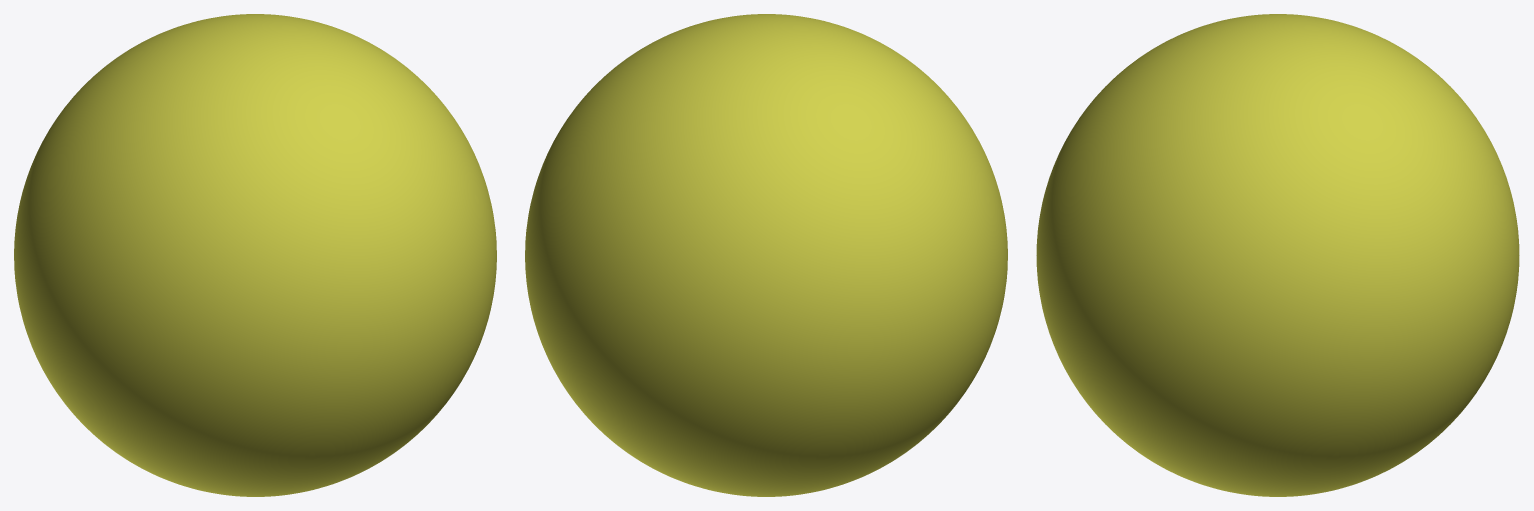
File: planet-hi.fbx
3 views of the same model, side by side, from view 1: azimuth 30°, elevation 25°; view 2: azimuth 150°, elevation 25°; view 3: azimuth 270°, elevation 25° (orthographic).
Visible parts, largest first — view 1: Sphere_2; view 2: Sphere_2; view 3: Sphere_2.
Part boxes in pixels (left/top/right/bottom): Sphere_2: left=14, top=14, right=496, bottom=496; Sphere_2: left=525, top=14, right=1007, bottom=496; Sphere_2: left=1036, top=14, right=1519, bottom=496.
Bounding box in the file's own units: 202 × 202 × 202.
